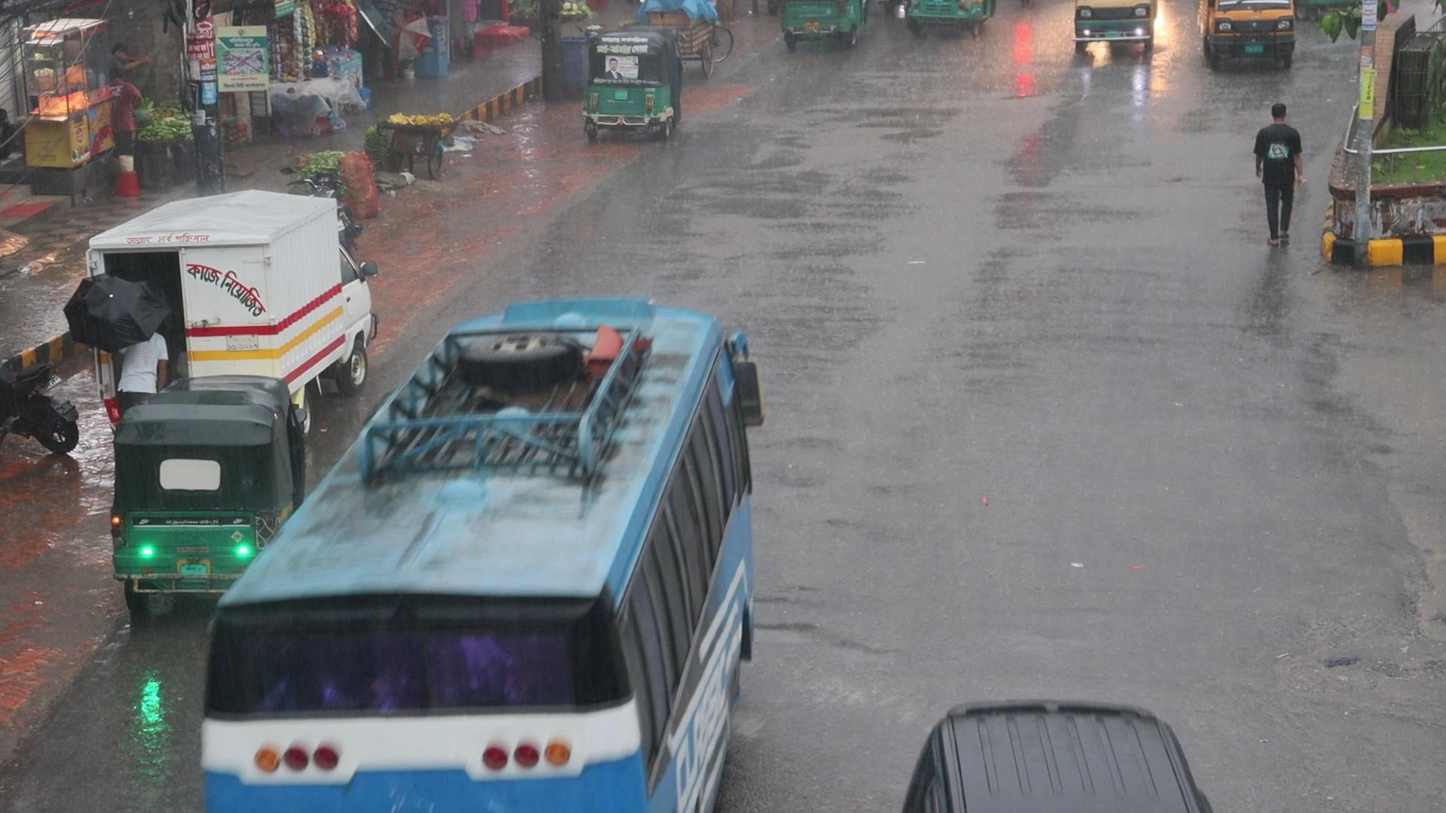Bus: (207, 294, 755, 811)
